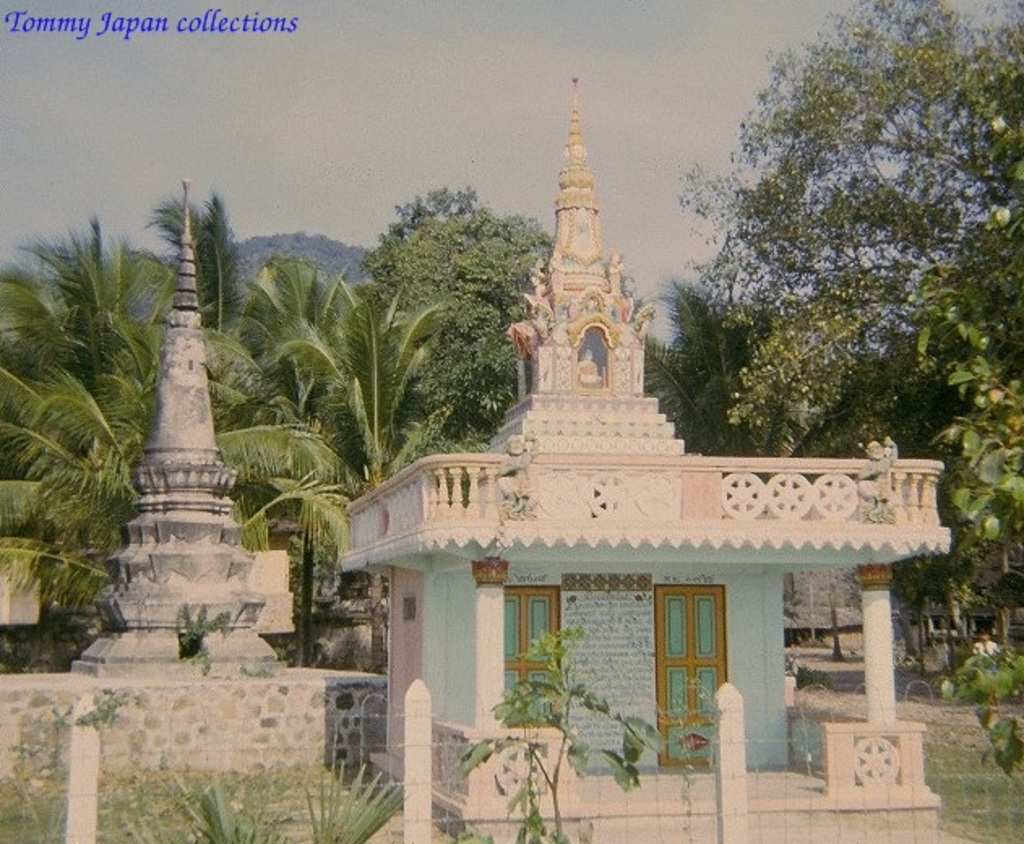Tree: (0, 185, 456, 621), (676, 32, 1001, 483), (903, 126, 1022, 783), (347, 185, 559, 456), (637, 274, 819, 459)
